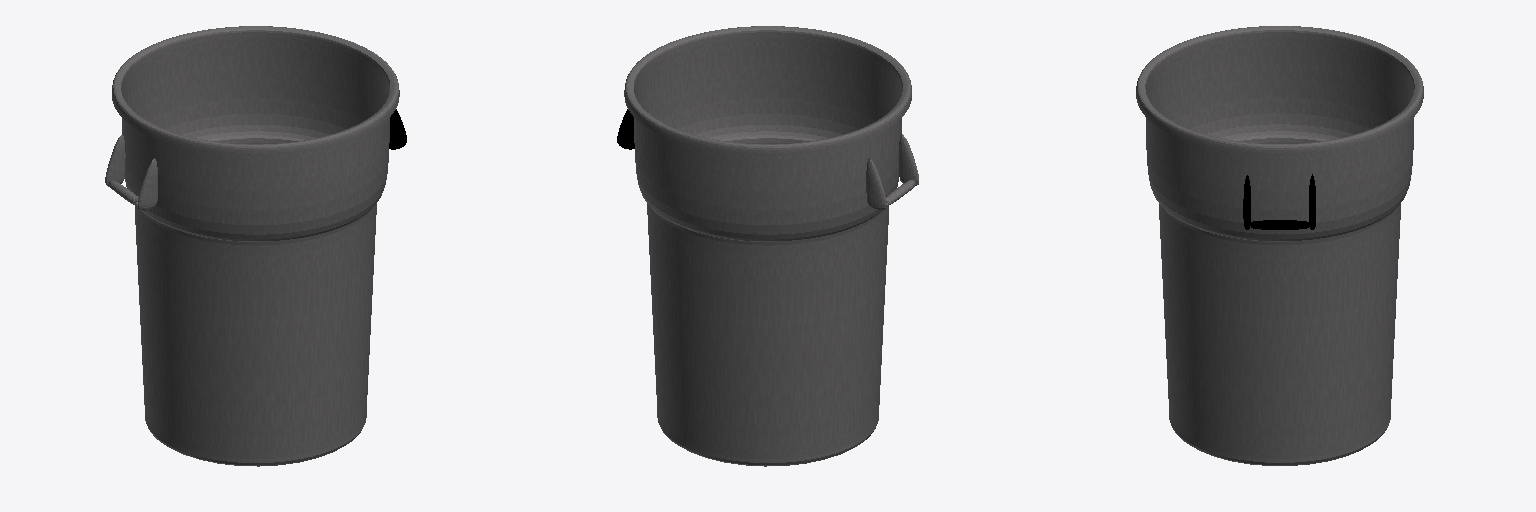
3 renders of one model, left to right at view 1: azimuth 30°, elevation 25°; view 2: azimuth 150°, elevation 25°; view 3: azimuth 270°, elevation 25°, orthographic.
Parts seen in each view (by area): view 1: brute_trashcan:Mesh; view 2: brute_trashcan:Mesh; view 3: brute_trashcan:Mesh.
Part boxes in pixels (x1,y1,x2,y2): brute_trashcan:Mesh: (105, 26, 406, 466); brute_trashcan:Mesh: (617, 26, 918, 466); brute_trashcan:Mesh: (1136, 26, 1423, 465).
Bounding box in the file's own units: 0.3501 × 0.4201 × 0.3216.
Materials: 1 (1 with a texture image).